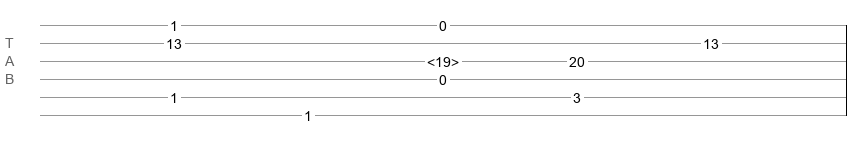0: (439, 72, 447, 82), (439, 18, 447, 28)
1: (170, 18, 178, 28), (170, 90, 178, 100), (304, 108, 312, 118)
13: (166, 36, 182, 46), (703, 36, 719, 46)
20: (569, 54, 585, 64)
3: (573, 90, 581, 100)
harmonic: (427, 54, 459, 64)
